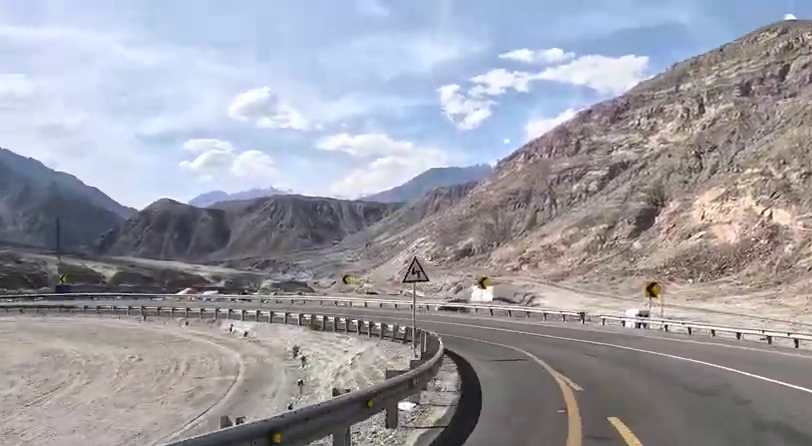right: (392, 260, 799, 446)
